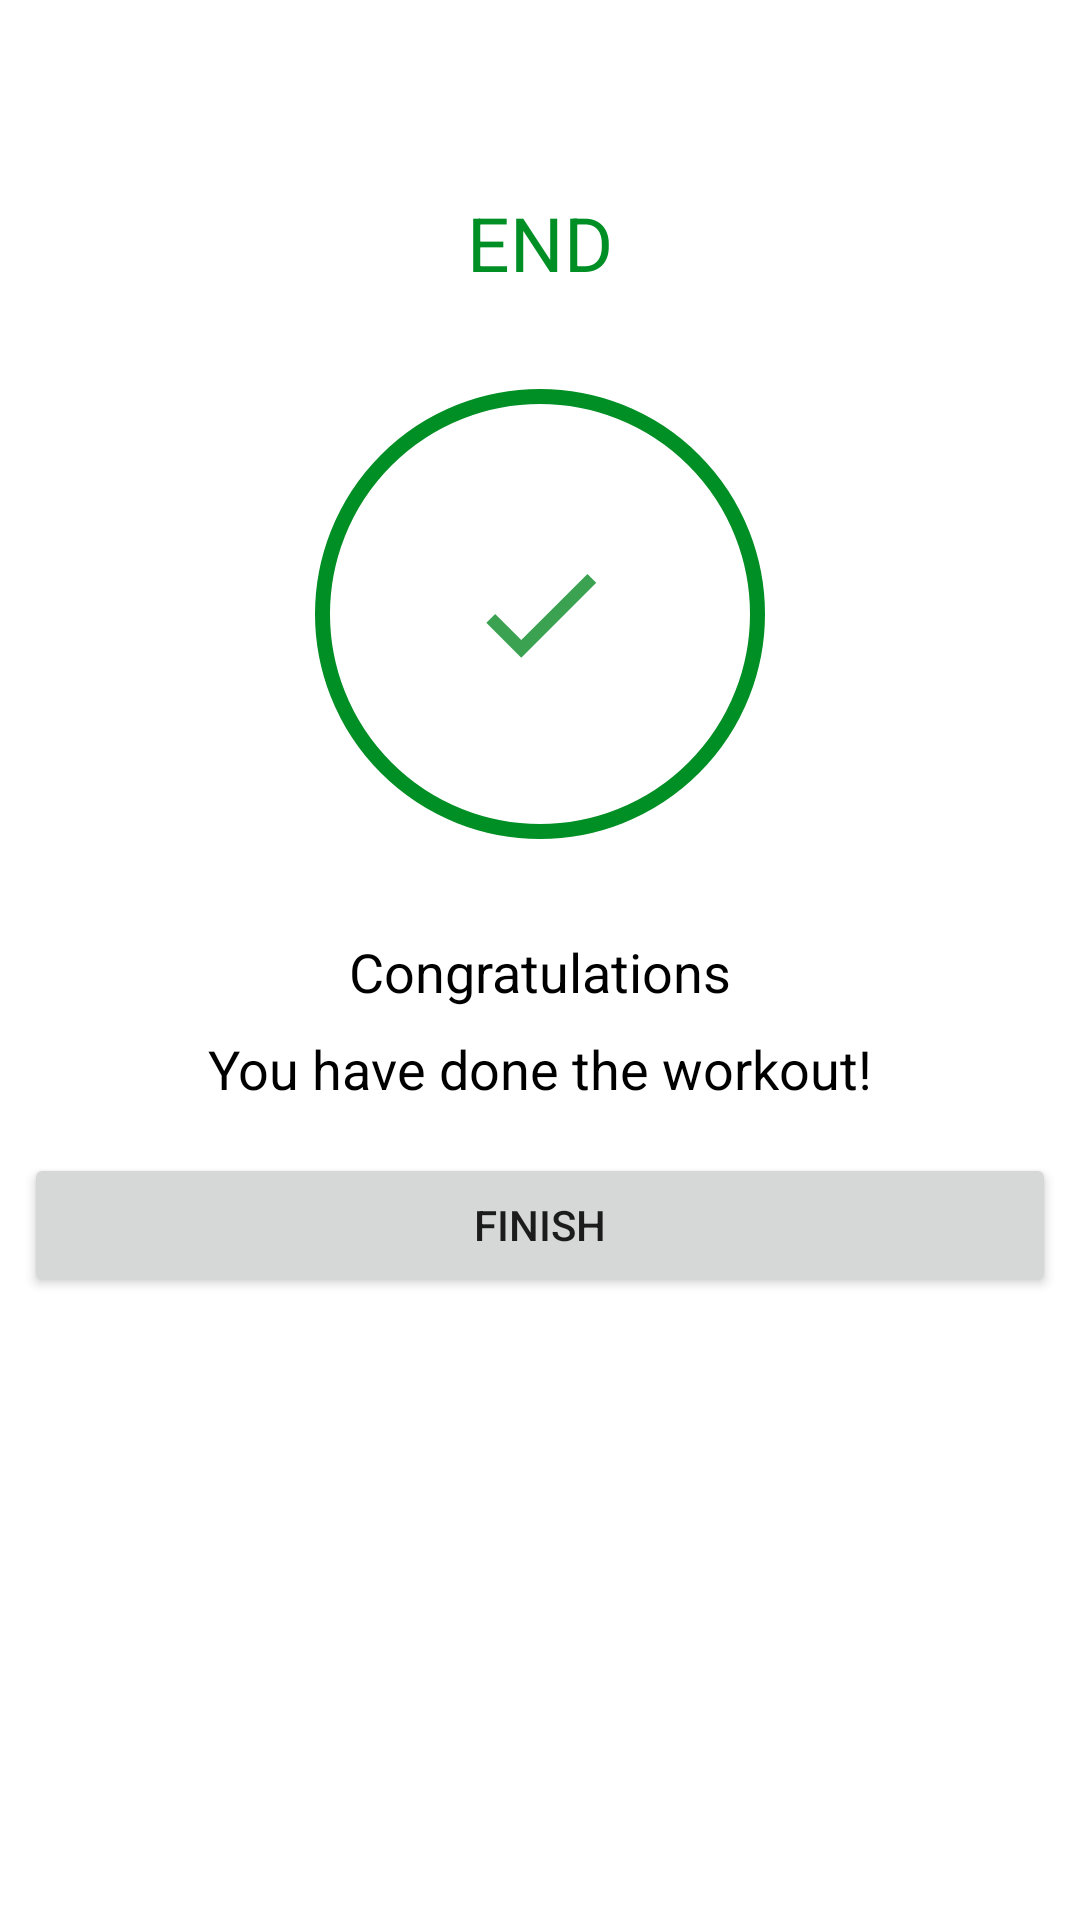

Where icons sit on this 1080px×1920px app screen, as region(x1, y1, x2, y2):
checkmark: region(486, 574, 596, 658)
